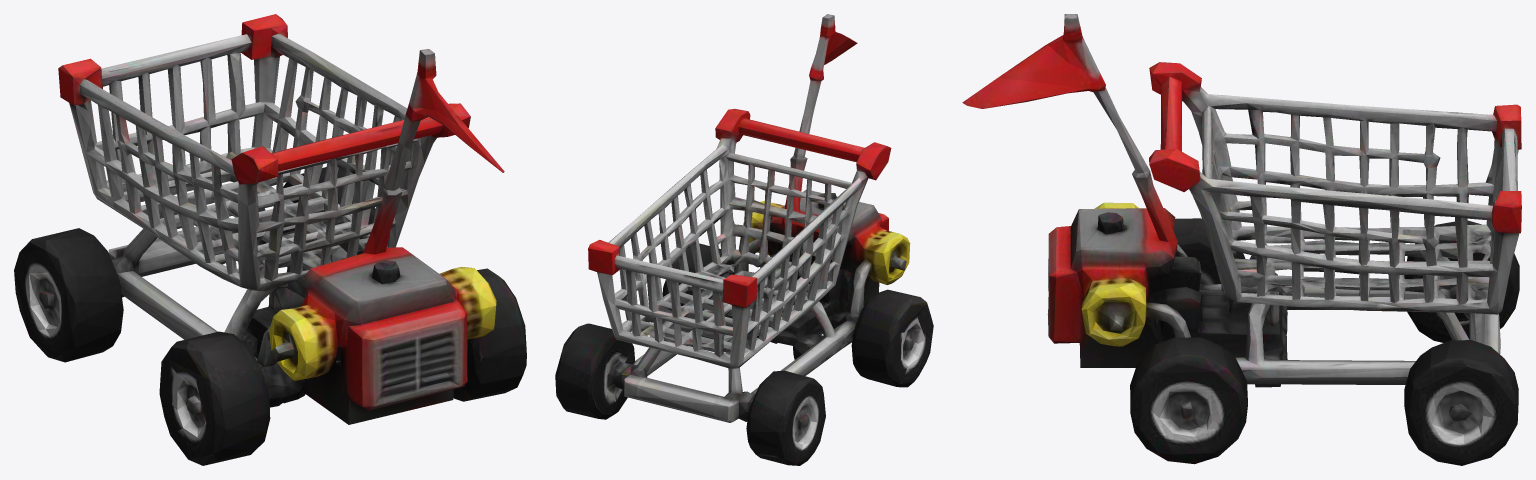
The model's file is cs_v_carrello_spesa.glb.
3 views of the same model, side by side, from view 1: azimuth 30°, elevation 25°; view 2: azimuth 150°, elevation 25°; view 3: azimuth 270°, elevation 25° (orthographic). The views are drawn at different scales.
Parts seen in each view (by area): view 1: v_carrello_spesa; view 2: v_carrello_spesa; view 3: v_carrello_spesa.
Boxes of the visible parts, x1=… form: v_carrello_spesa: x1=14, y1=14, x2=526, y2=465; v_carrello_spesa: x1=555, y1=14, x2=933, y2=465; v_carrello_spesa: x1=962, y1=14, x2=1521, y2=465.
Size of the model in its own units: 1.34 by 1.7 by 2.2.
1 material, 1 textured.
